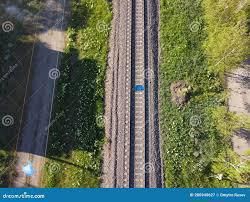Color_steel: (132, 82, 148, 97)
Plastic: (15, 158, 35, 177)
